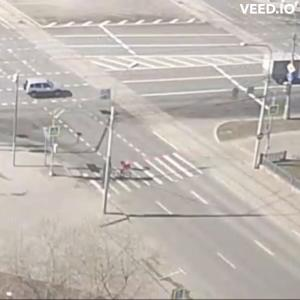car: (263, 51, 300, 87), (27, 79, 73, 100)
